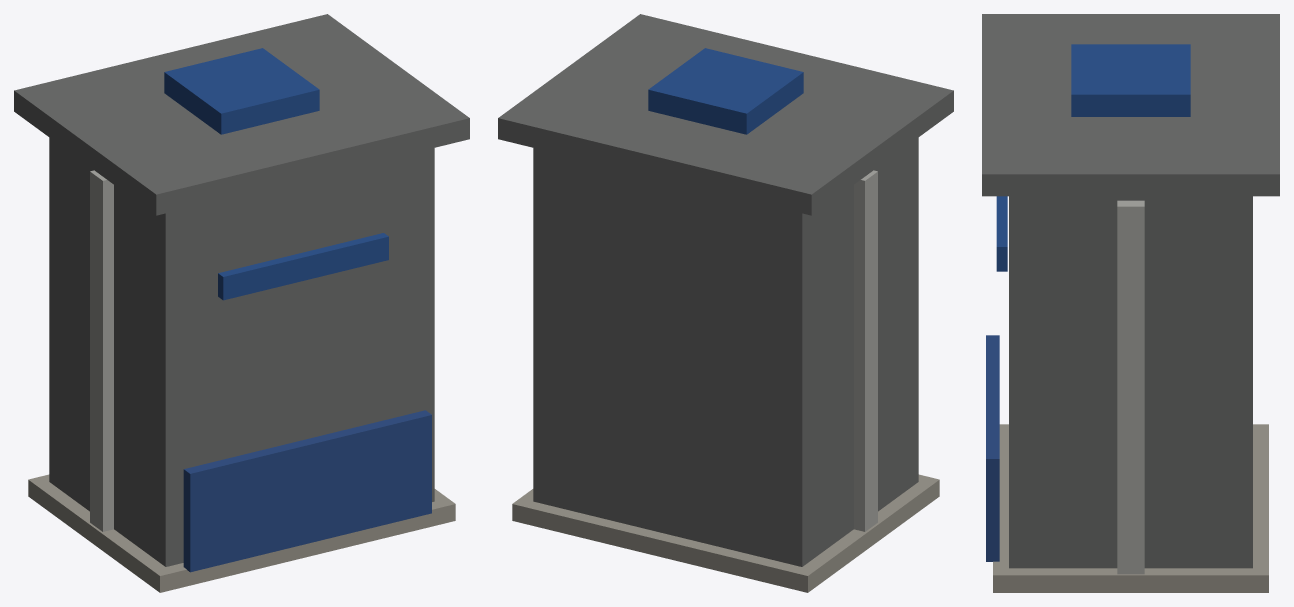
File: bld_commercial_a10_lod2.glb
The picture shows the model from 3 angles, left to right: view 1: azimuth 30°, elevation 25°; view 2: azimuth 150°, elevation 25°; view 3: azimuth 270°, elevation 25°; orthographic projection. The views are drawn at different scales.
Parts seen in each view (by area): view 1: body; view 2: body; view 3: body.
Part boxes in pixels (box(x1,y1,x2,y2)): body: box(14, 14, 469, 592); body: box(498, 14, 953, 592); body: box(982, 14, 1279, 592).
Size of the model in its own units: 7 by 9.12 by 5.5.
